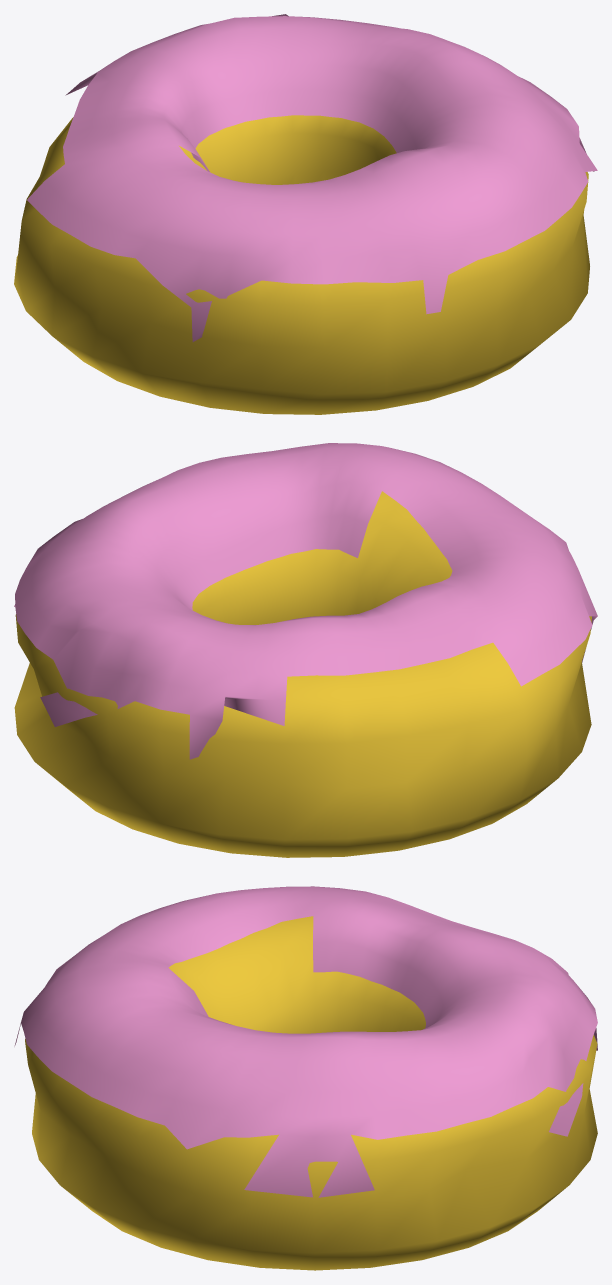
File: donit.glb
3 renders of one model, top to bottom at view 1: azimuth 30°, elevation 25°; view 2: azimuth 150°, elevation 25°; view 3: azimuth 270°, elevation 25°, orthographic. The views are drawn at different scales.
Visible parts, largest first — view 1: Frosting, Donut; view 2: Frosting, Donut; view 3: Frosting, Donut.
Part boxes in pixels (left/top/right/bottom): Frosting: left=27, top=14, right=597, bottom=341; Donut: left=14, top=115, right=589, bottom=414; Frosting: left=14, top=443, right=597, bottom=759; Donut: left=14, top=491, right=591, bottom=857; Frosting: left=14, top=886, right=597, bottom=1197; Donut: left=25, top=916, right=597, bottom=1270.
Size of what is drawn, in the model's own units: 0.1461 by 0.0615 by 0.1477.
